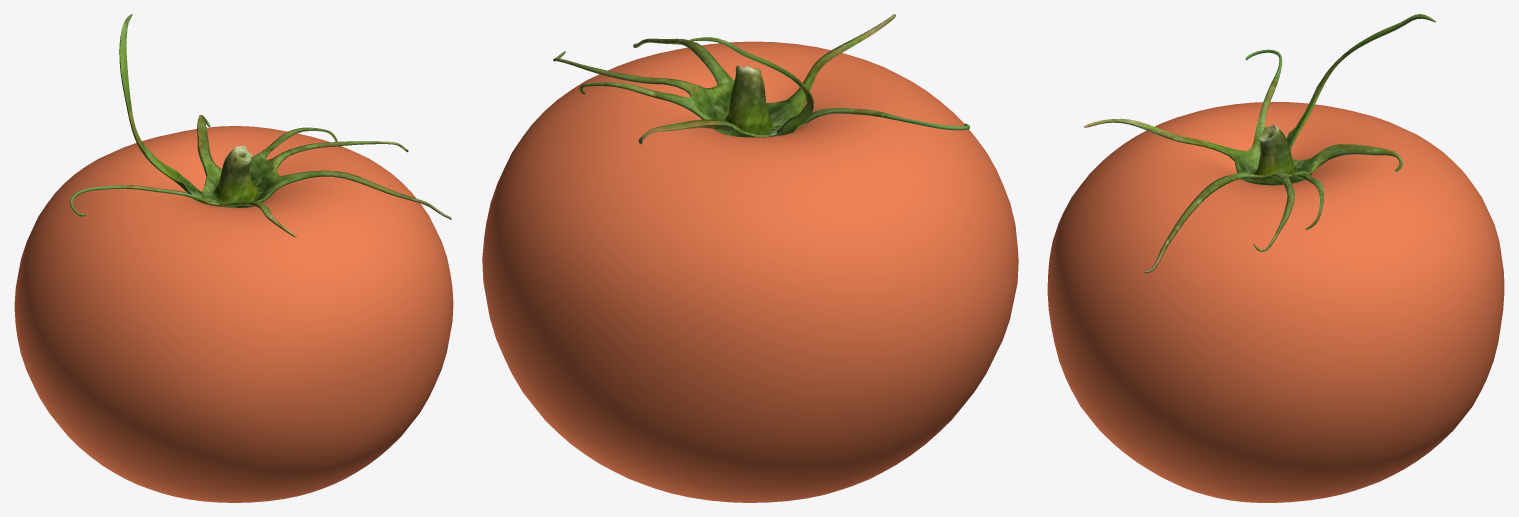
The model's file is SM_Tomato.fbx.
3 renders of one model, left to right at view 1: azimuth 30°, elevation 25°; view 2: azimuth 150°, elevation 25°; view 3: azimuth 270°, elevation 25°, orthographic. The views are drawn at different scales.
Visible parts, largest first — view 1: TomatoPeel, TomatoCalyx, TomatoPedicel; view 2: TomatoPeel, TomatoCalyx, TomatoPedicel; view 3: TomatoPeel, TomatoCalyx, TomatoPedicel.
Part boxes in pixels (x1,y1,x2,y2): TomatoPeel: (14, 126, 453, 502); TomatoCalyx: (70, 14, 451, 237); TomatoPedicel: (214, 145, 256, 202); TomatoPeel: (482, 41, 1018, 502); TomatoCalyx: (553, 14, 969, 144); TomatoPedicel: (725, 65, 773, 134); TomatoPeel: (1047, 102, 1504, 502); TomatoCalyx: (1084, 14, 1435, 273); TomatoPedicel: (1254, 124, 1297, 175).
Size of what is drawn, in the model's own units: 7.29 by 7.14 by 7.45.
